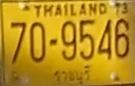0: (29, 22, 45, 62)
4: (97, 19, 111, 58)
5: (78, 18, 94, 60)
6: (114, 18, 129, 57)
7: (10, 21, 26, 63)
9: (60, 20, 76, 60)
RBR: (51, 64, 92, 85)
